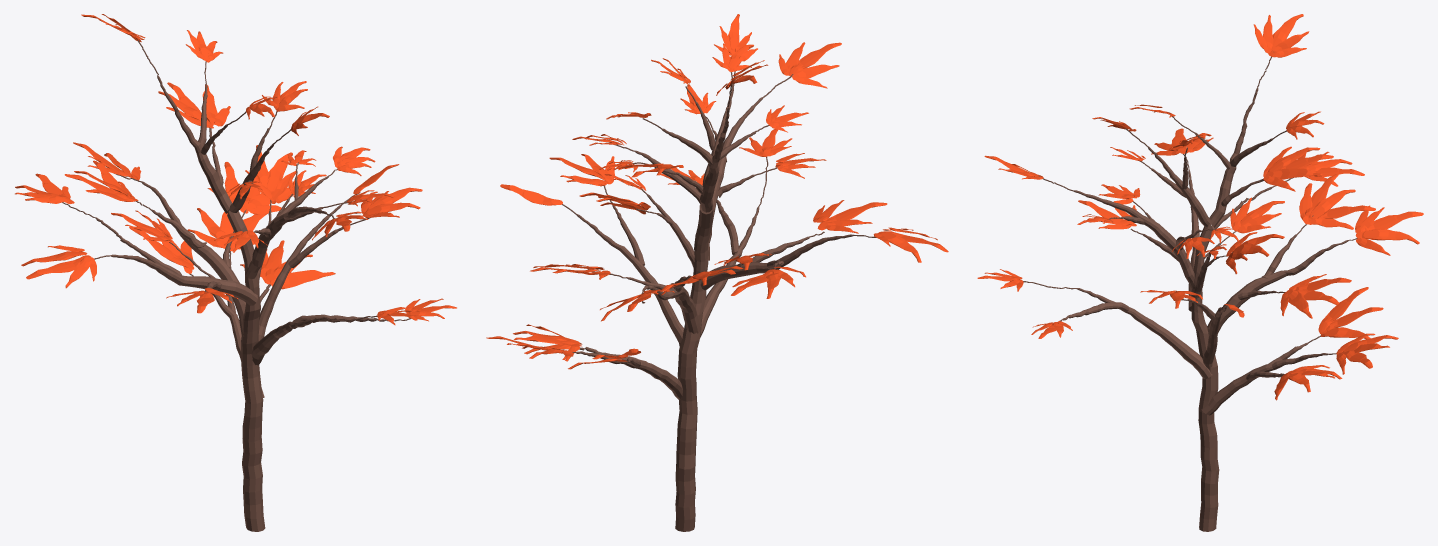
The picture shows the model from 3 angles, left to right: view 1: azimuth 30°, elevation 25°; view 2: azimuth 150°, elevation 25°; view 3: azimuth 270°, elevation 25°; orthographic projection. The views are drawn at different scales.
Parts seen in each view (by area): view 1: default; view 2: default; view 3: default.
Part boxes in pixels (bbox=[...]): default: bbox=[15, 14, 456, 531]; default: bbox=[486, 14, 948, 531]; default: bbox=[977, 14, 1423, 531].
Bounding box in the file's own units: 3.63 × 4.33 × 3.79.
